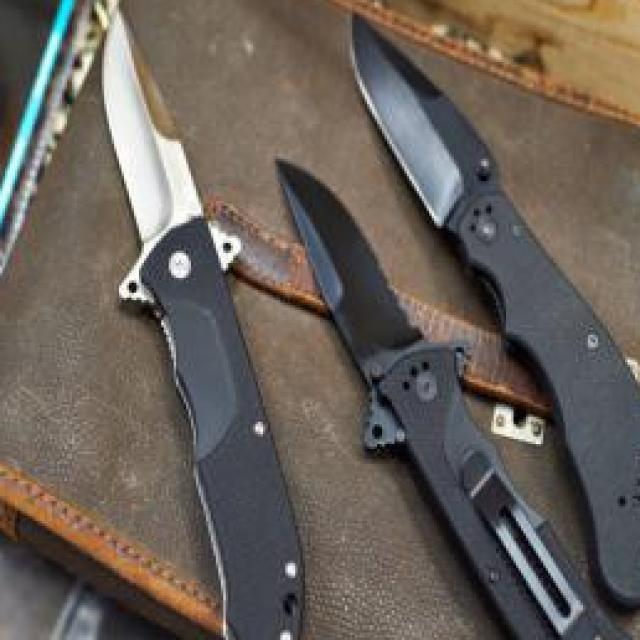knife: (273, 144, 640, 640), (347, 12, 640, 608), (99, 7, 308, 640)
